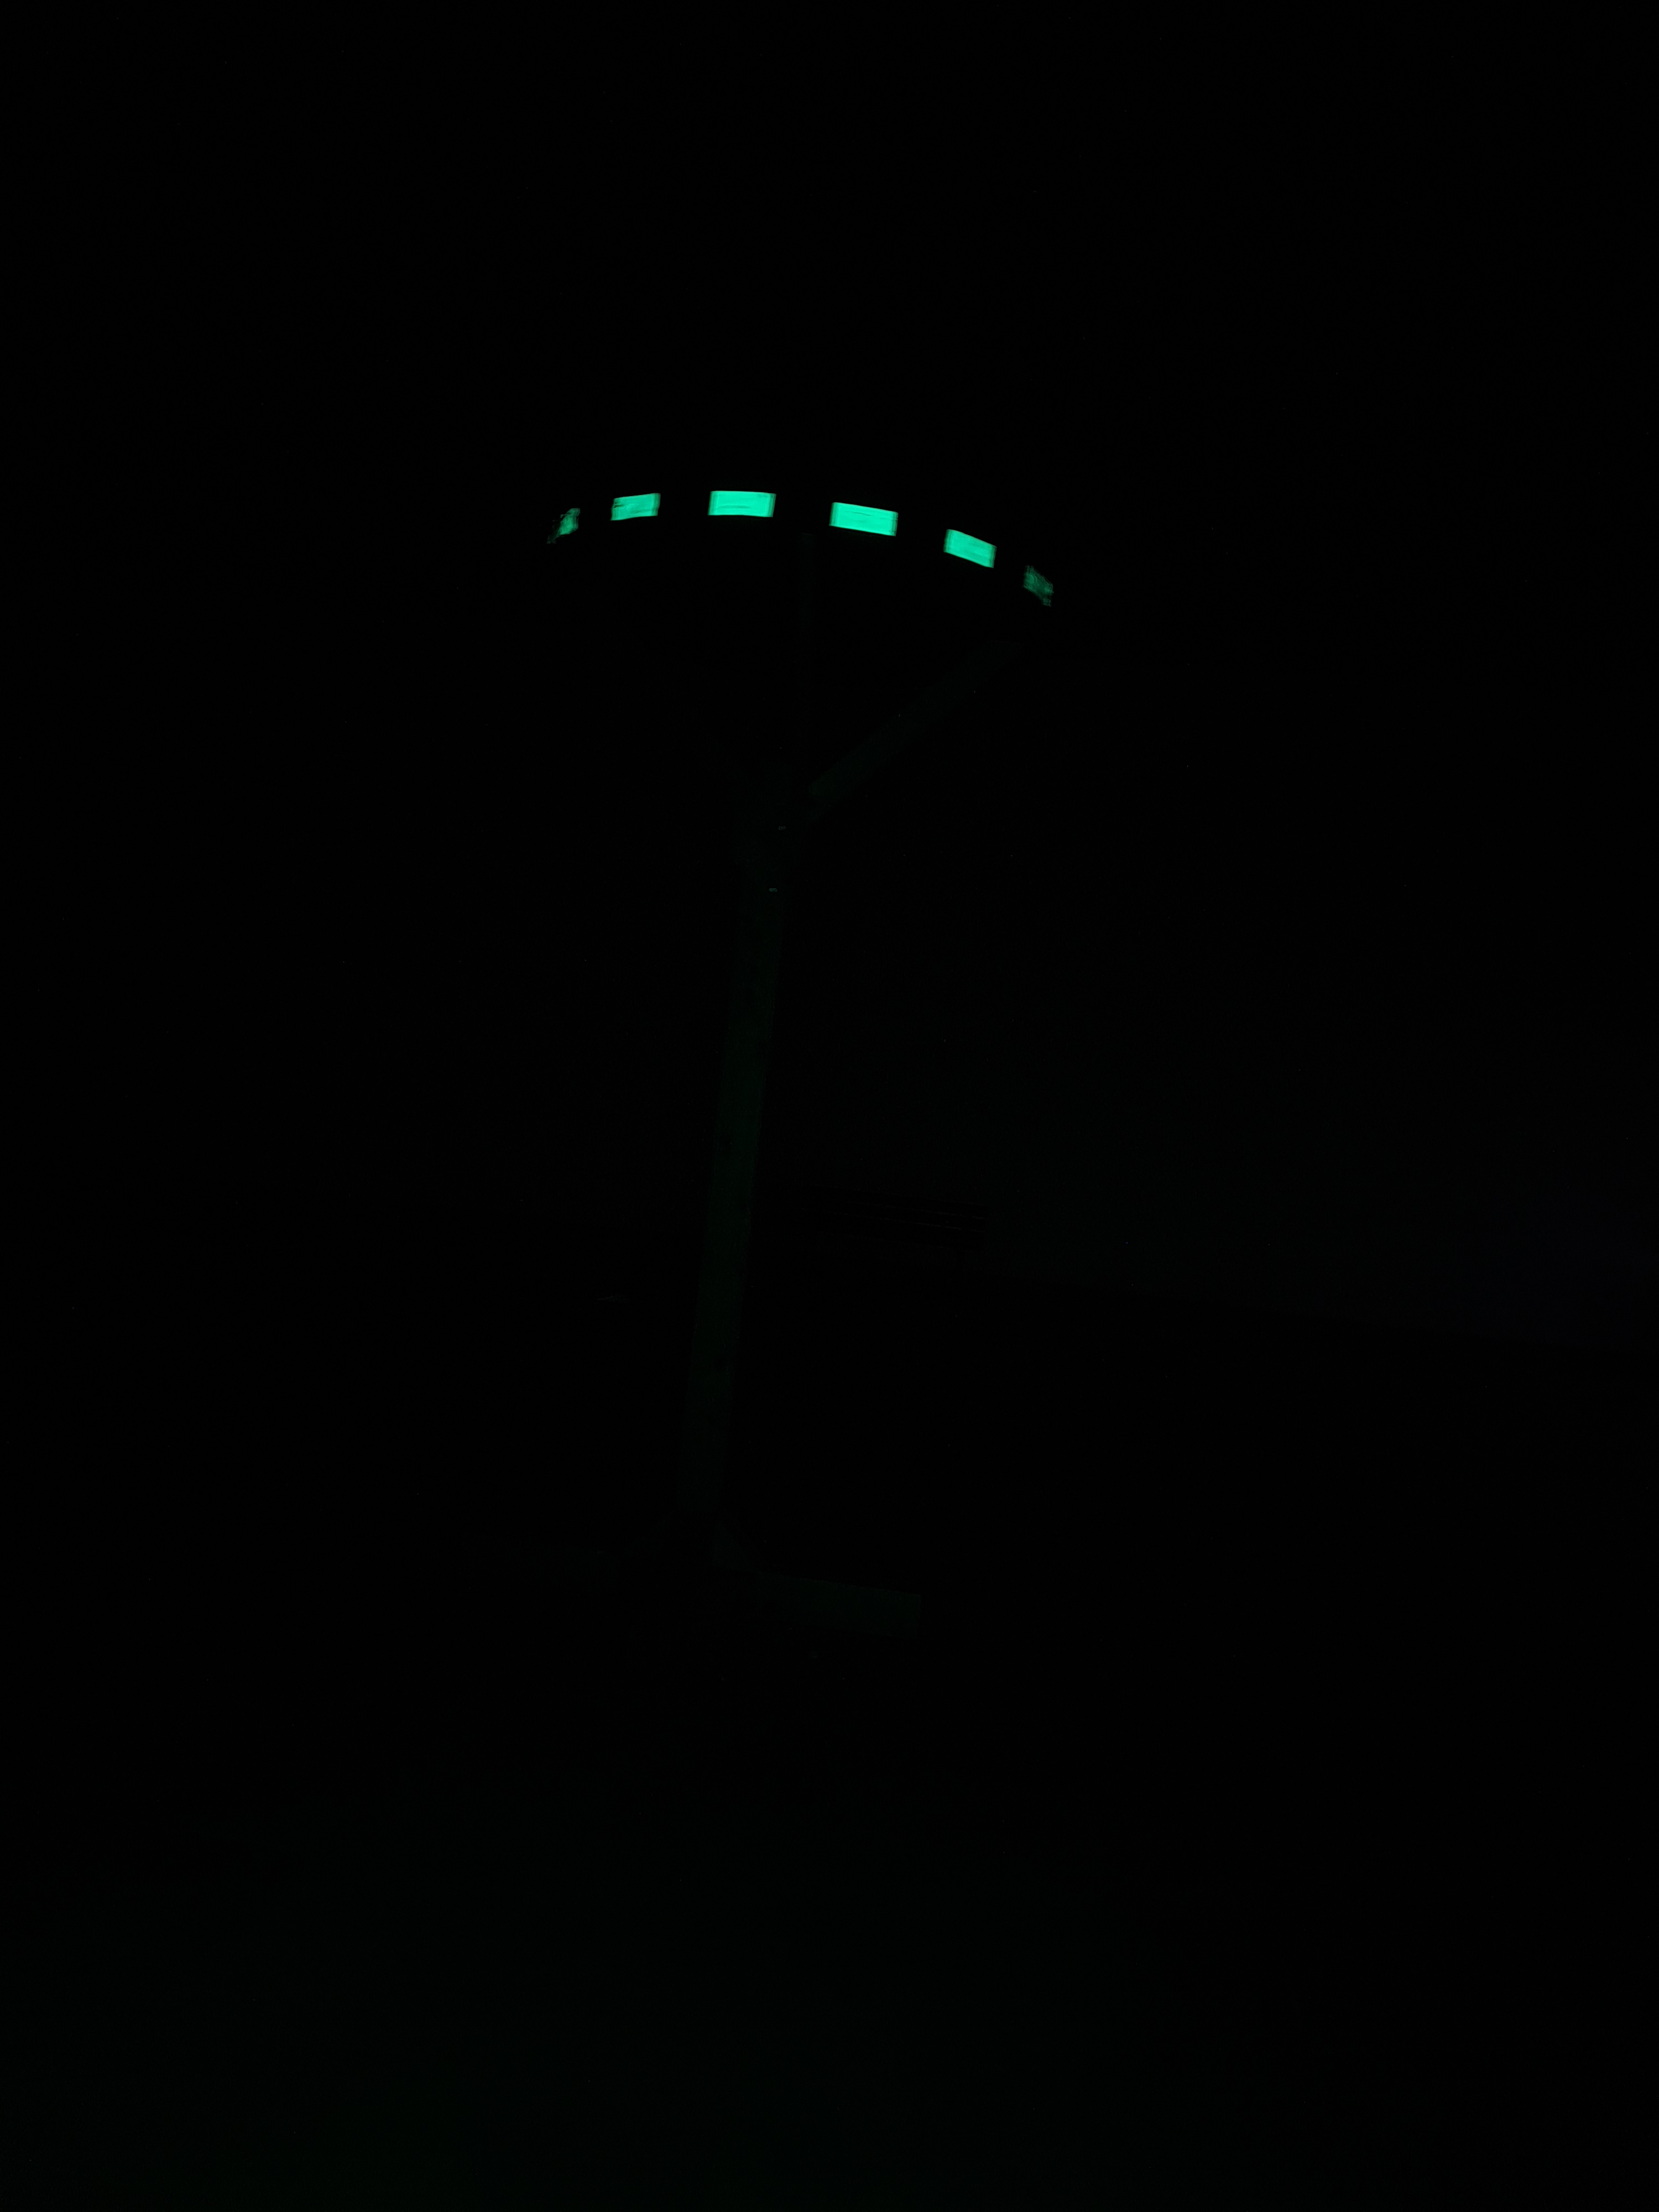hoop: (552, 474, 1058, 617)
